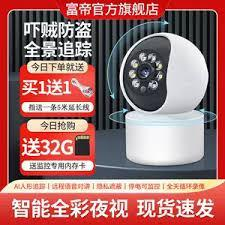maru: (119, 33, 211, 116)
